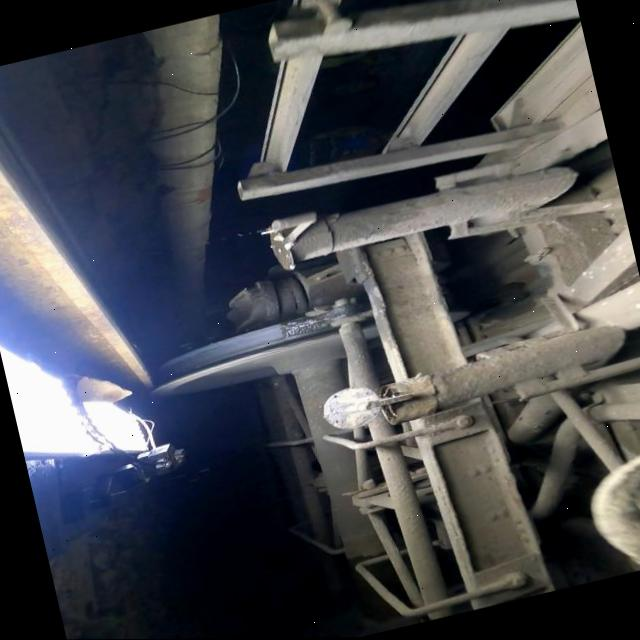Cracks-Scratches: (252, 340, 306, 356)
Wheel: (150, 324, 342, 397)
